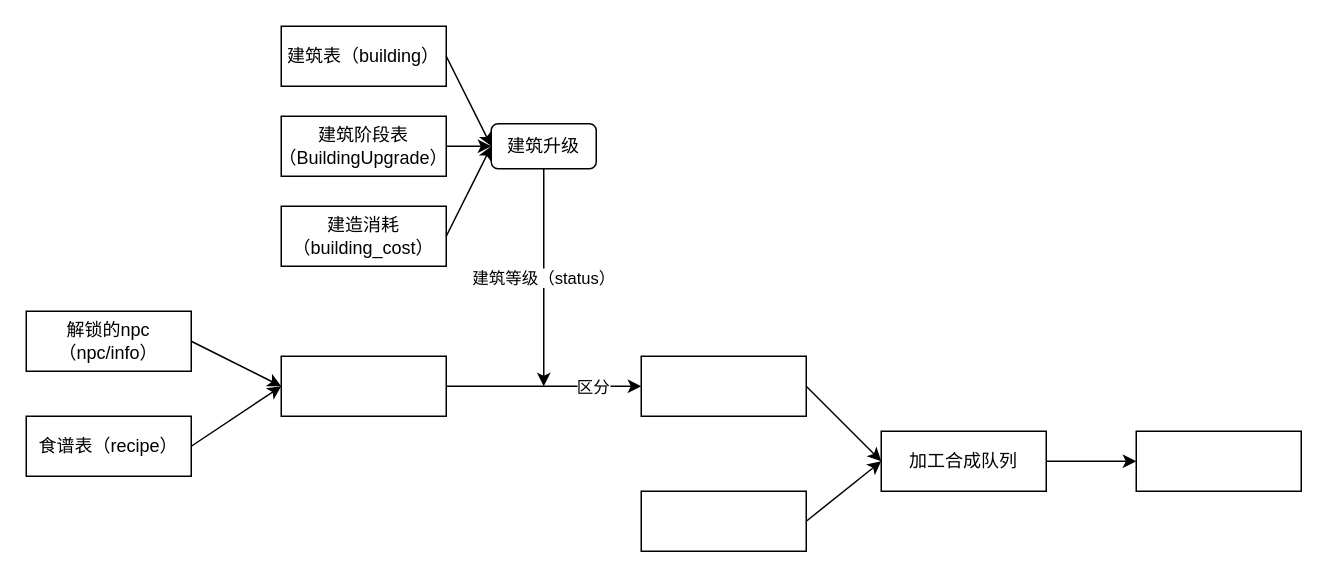
The diagram is 1328 pixels wide and 578 high, and some of its shapes have lost their labels. Here are the shapes that lost their labels. From the top down, the box of each, then its label:
(280, 355, 446, 416): 解锁npc的所有食谱
(640, 355, 806, 416): 可用食谱
(1135, 430, 1301, 491): 放置队列
(640, 490, 806, 551): 食材数量，加工时间
